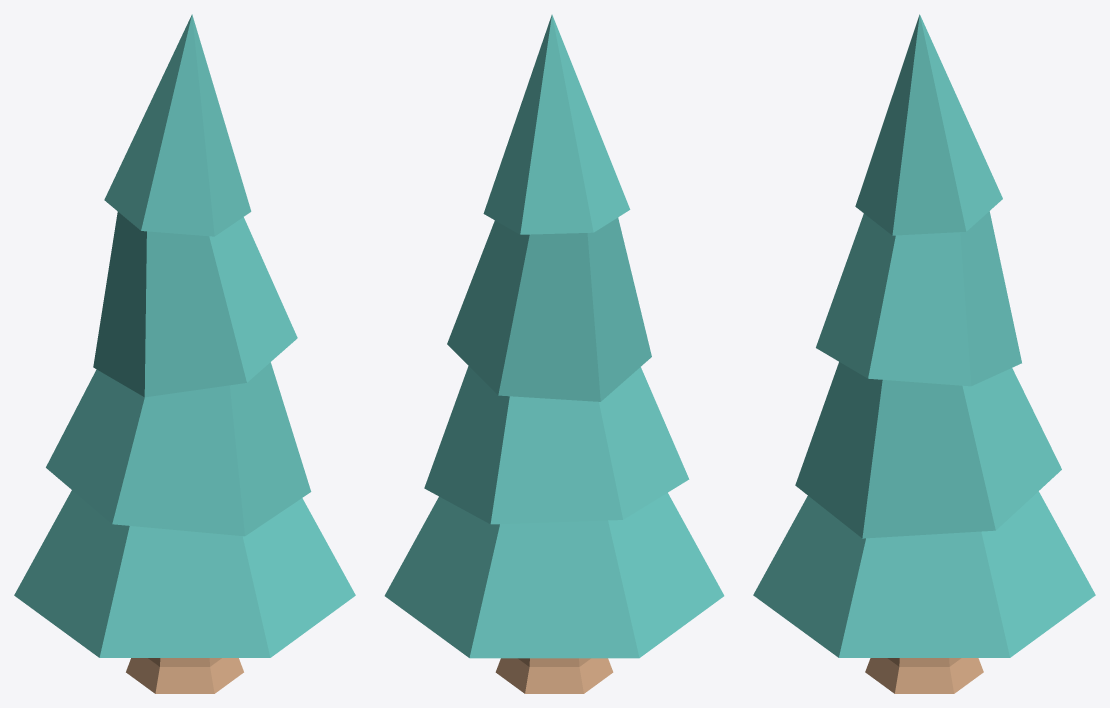
File: treePine.fbx
3 views of the same model, side by side, from view 1: azimuth 30°, elevation 25°; view 2: azimuth 150°, elevation 25°; view 3: azimuth 270°, elevation 25° (orthographic).
Parts seen in each view (by area): view 1: treePine_LOD0; view 2: treePine_LOD0; view 3: treePine_LOD0.
Boxes of the visible parts, <box> form: treePine_LOD0: <box>14,14,355,693</box>; treePine_LOD0: <box>384,14,724,693</box>; treePine_LOD0: <box>753,14,1095,693</box>.
Size of what is drawn, in the model's own units: 65.1 by 160 by 75.17.
